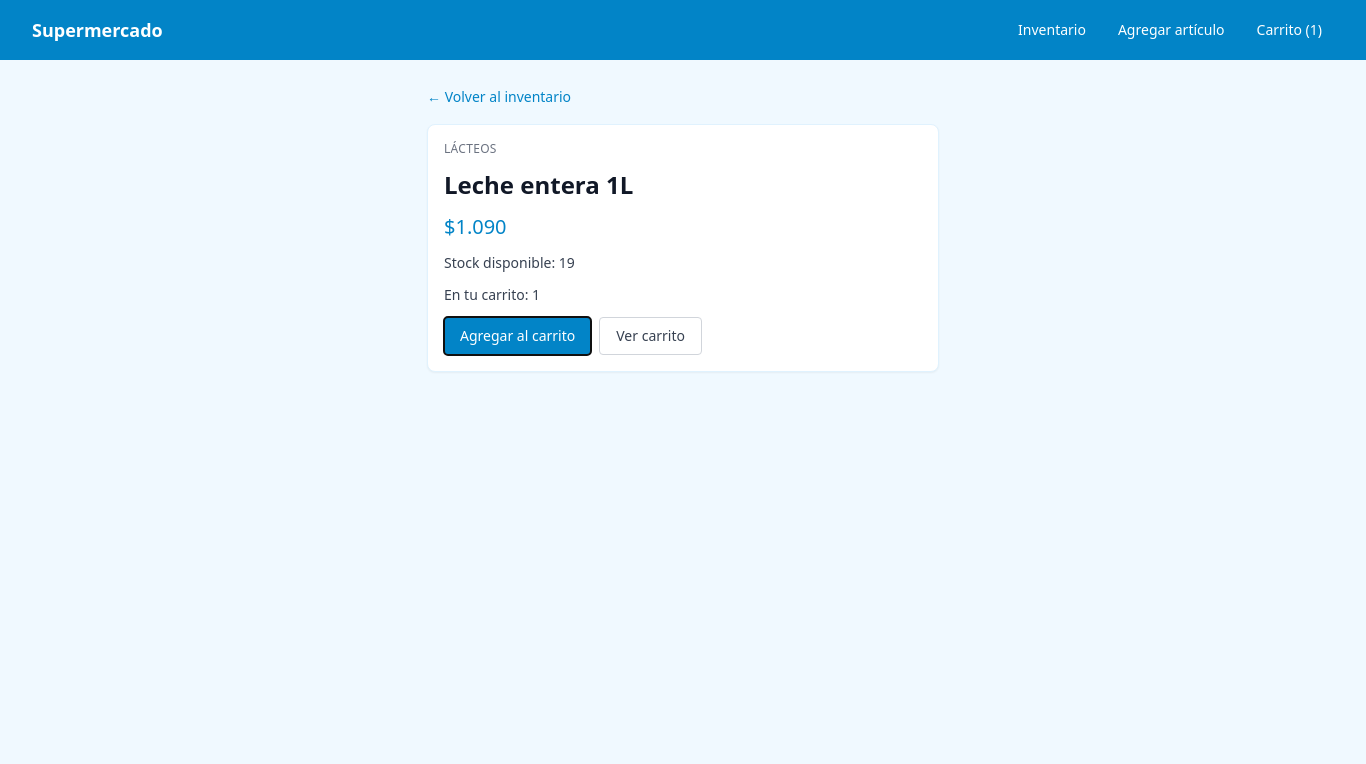
Test: Detalle y carrito › agregar al carrito descuenta stock y el carrito ajusta cantidades
The width and height of the screenshot is (1366, 764).
Earlier steps of the test are not shown.
Expected: the text "Stock disponible: 19" is shown, 444,253 -> 575,272
Click the link "Carrito (1)" at (1289, 30), box 1256,20 -> 1322,39
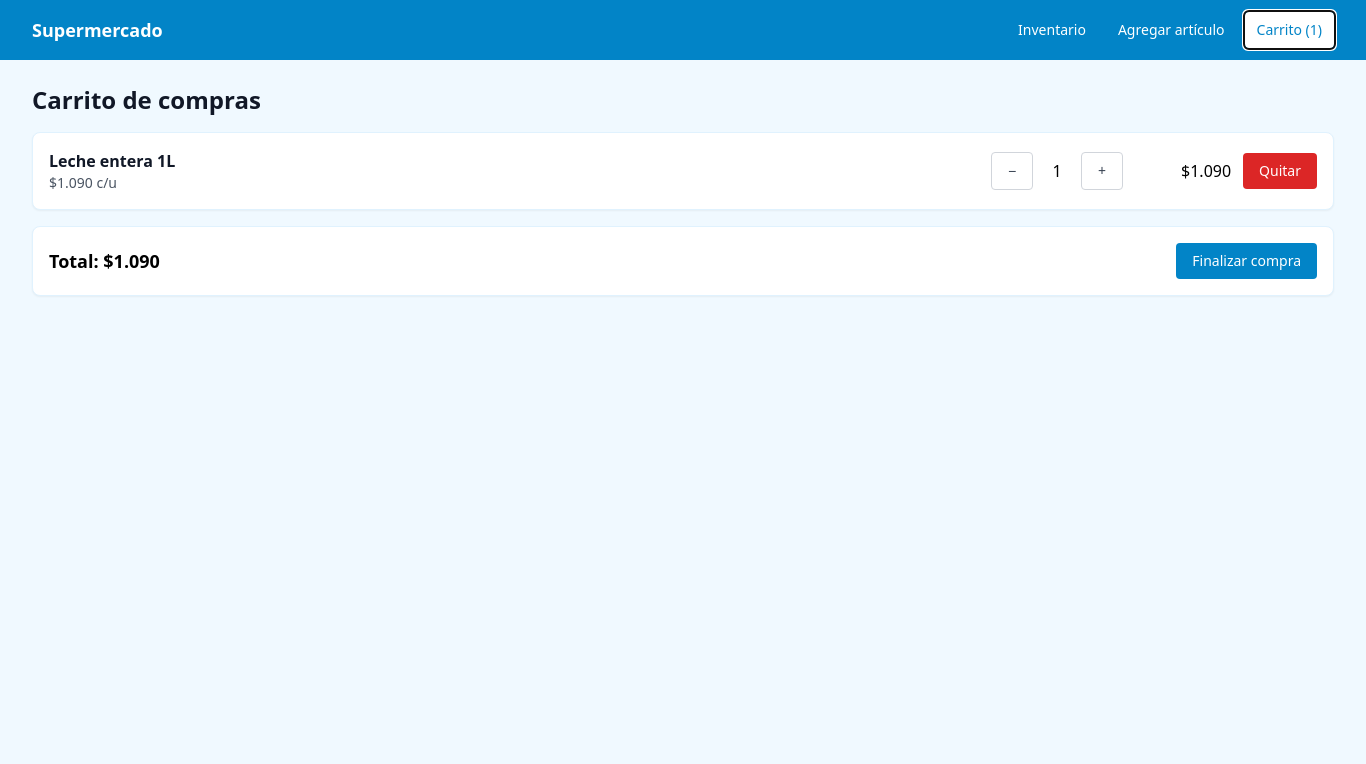
Result: the heading "Carrito de compras" is shown at 32,83 -> 261,116
Click the button named "Aumentar" at (1102, 171), box 1081,152 -> 1123,190
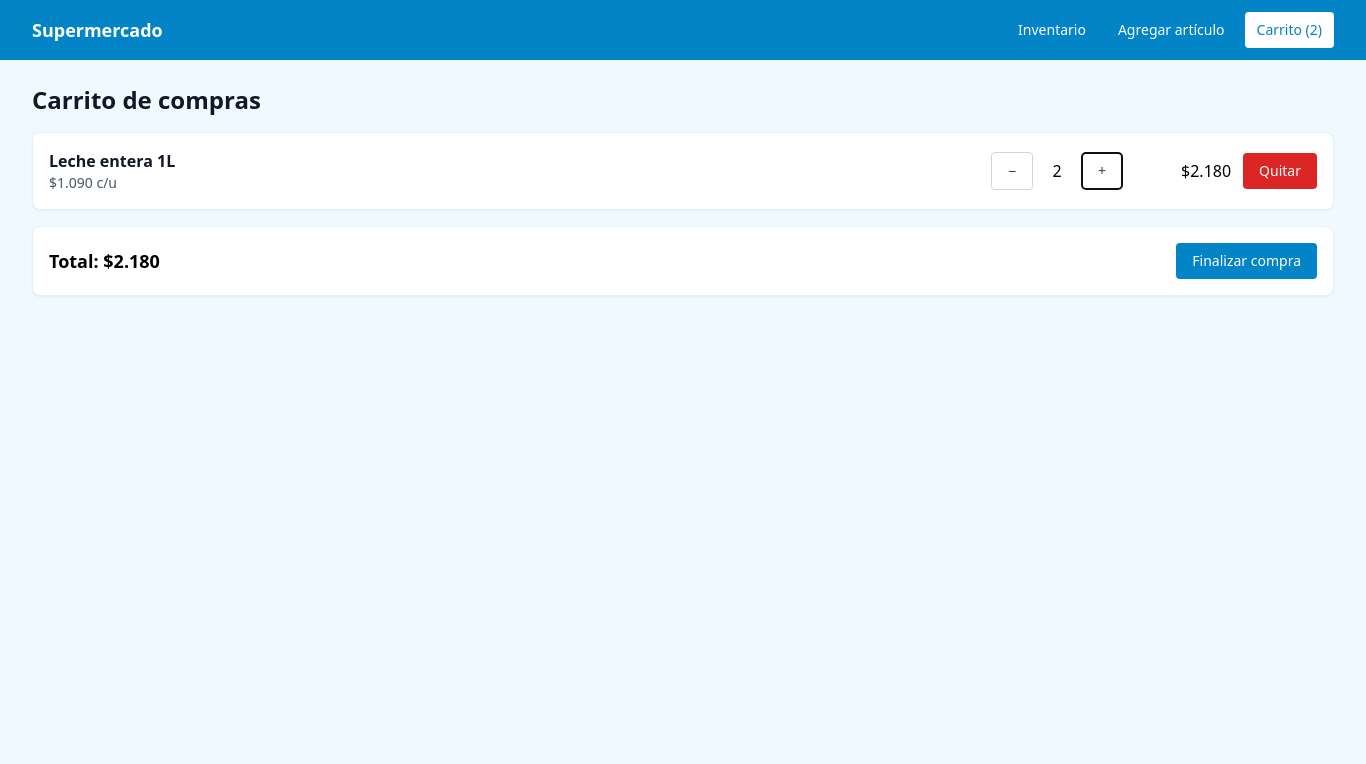
Result: the text named "Cantidad de" reads "2" at 1052,160 -> 1062,182
Click the button named "Disminuir" at (1012, 171), box 991,152 -> 1033,190
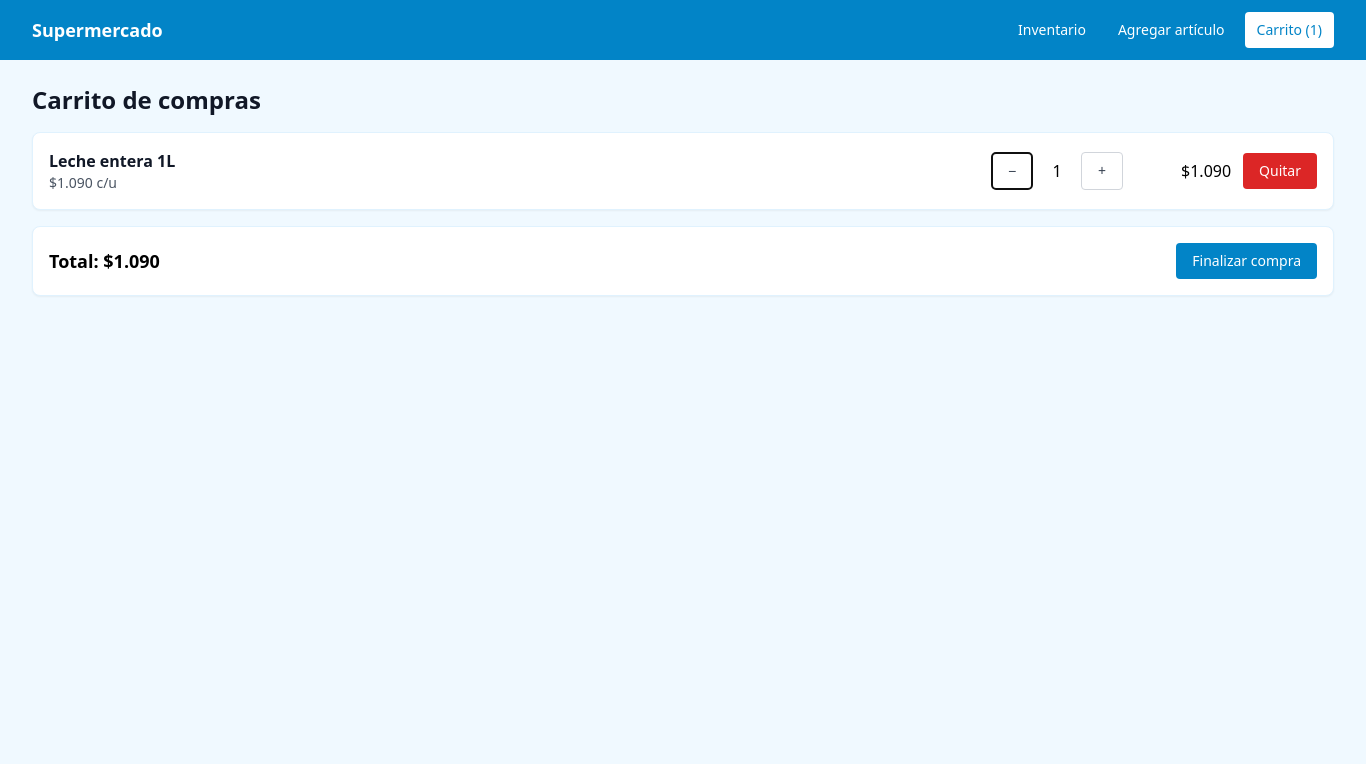
Click the button named "Disminuir" at (1012, 171), box 991,152 -> 1033,190
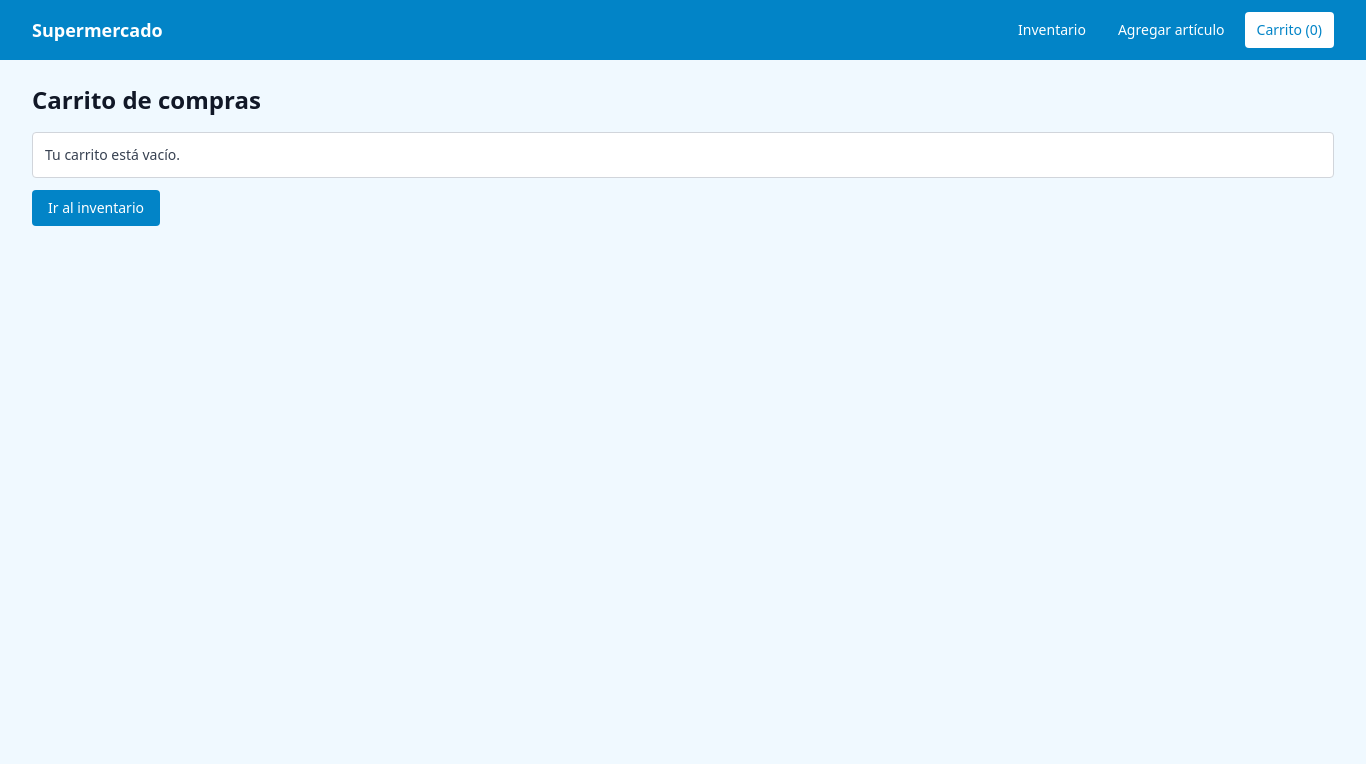
Result: the text "Tu carrito está vacío." is shown at 32,132 -> 1334,178
Click the link "Ir al inventario" at (96, 208), box 32,190 -> 160,226
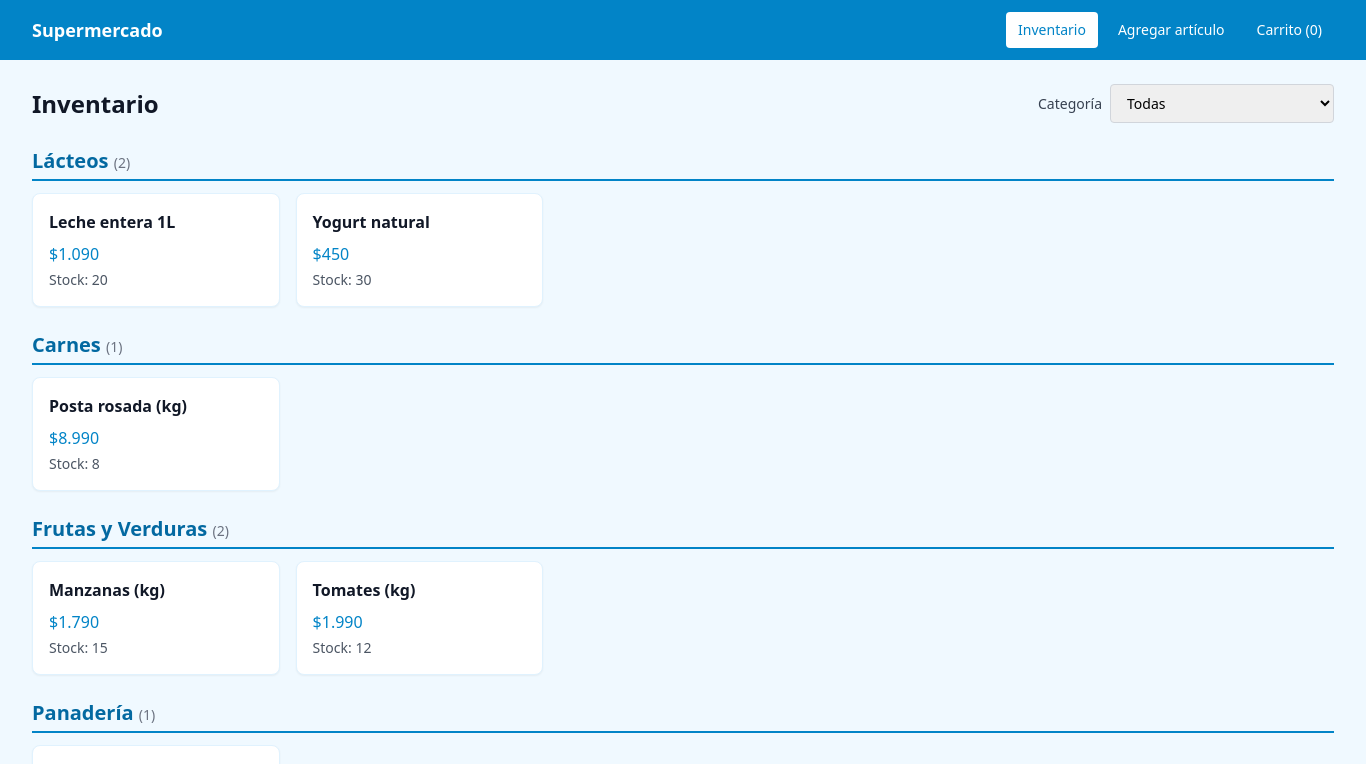
Click the heading "Leche entera 1L" at (112, 222), box 49,211 -> 175,233
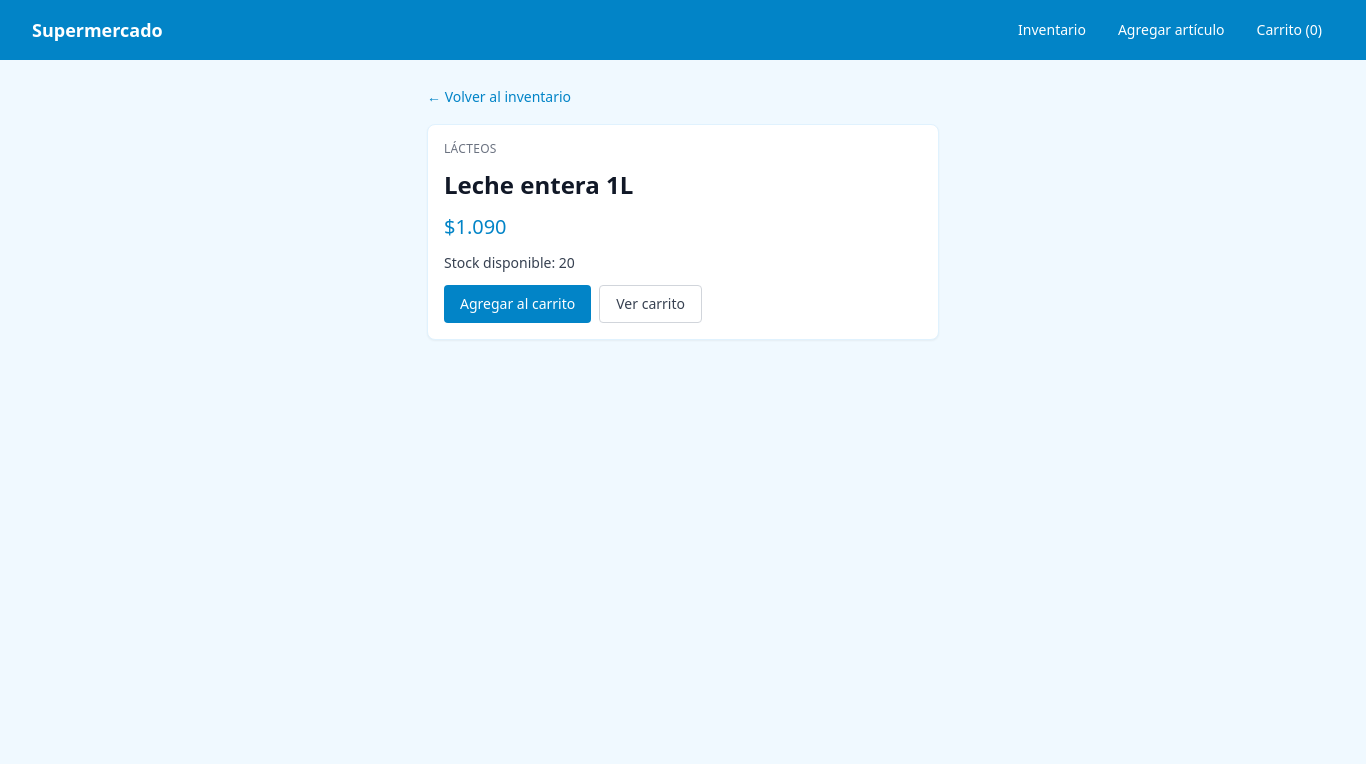
Result: the text "Stock disponible: 20" is shown at 444,253 -> 575,272
